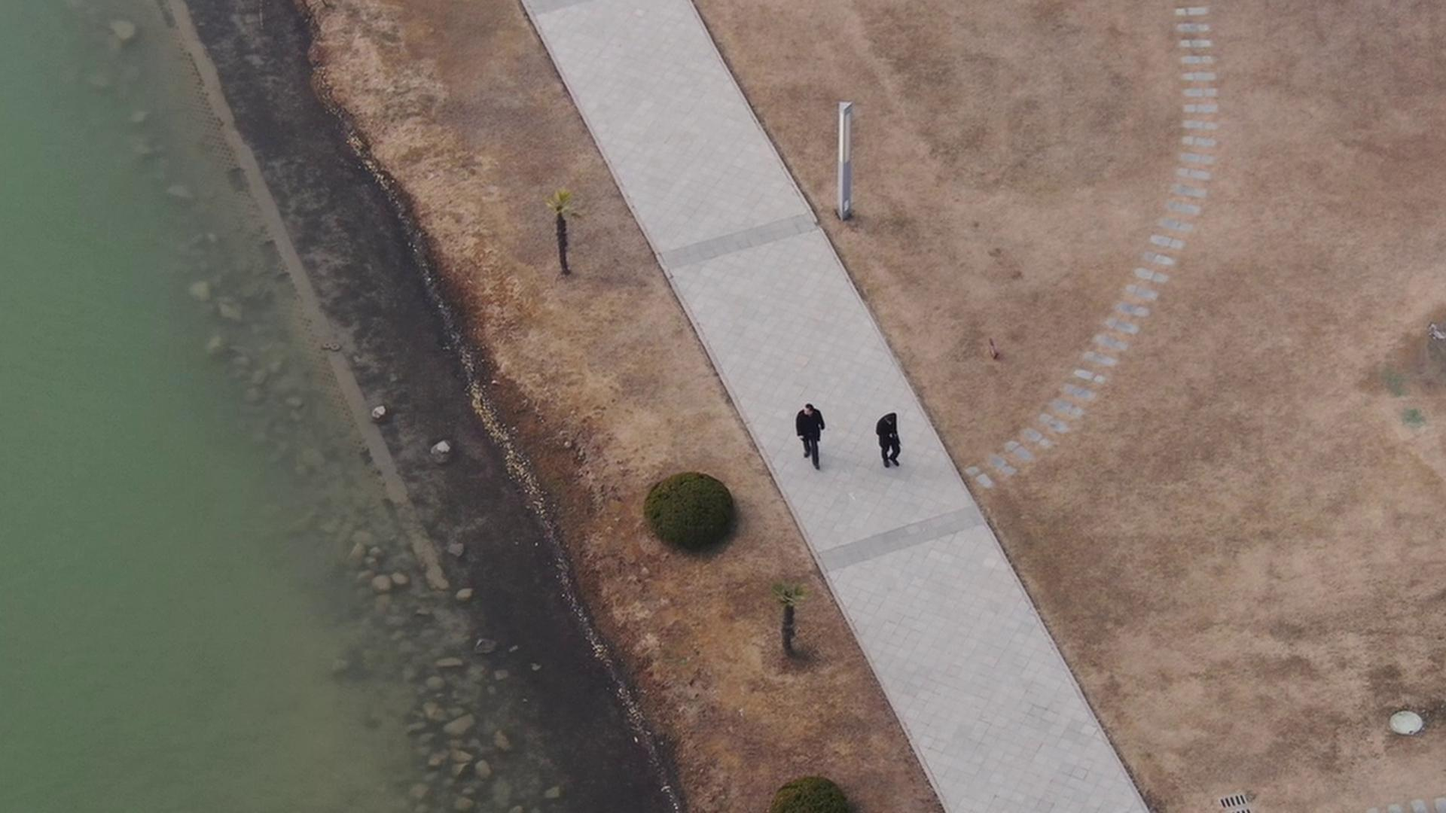human: (782, 399, 825, 474), (867, 413, 902, 480)
